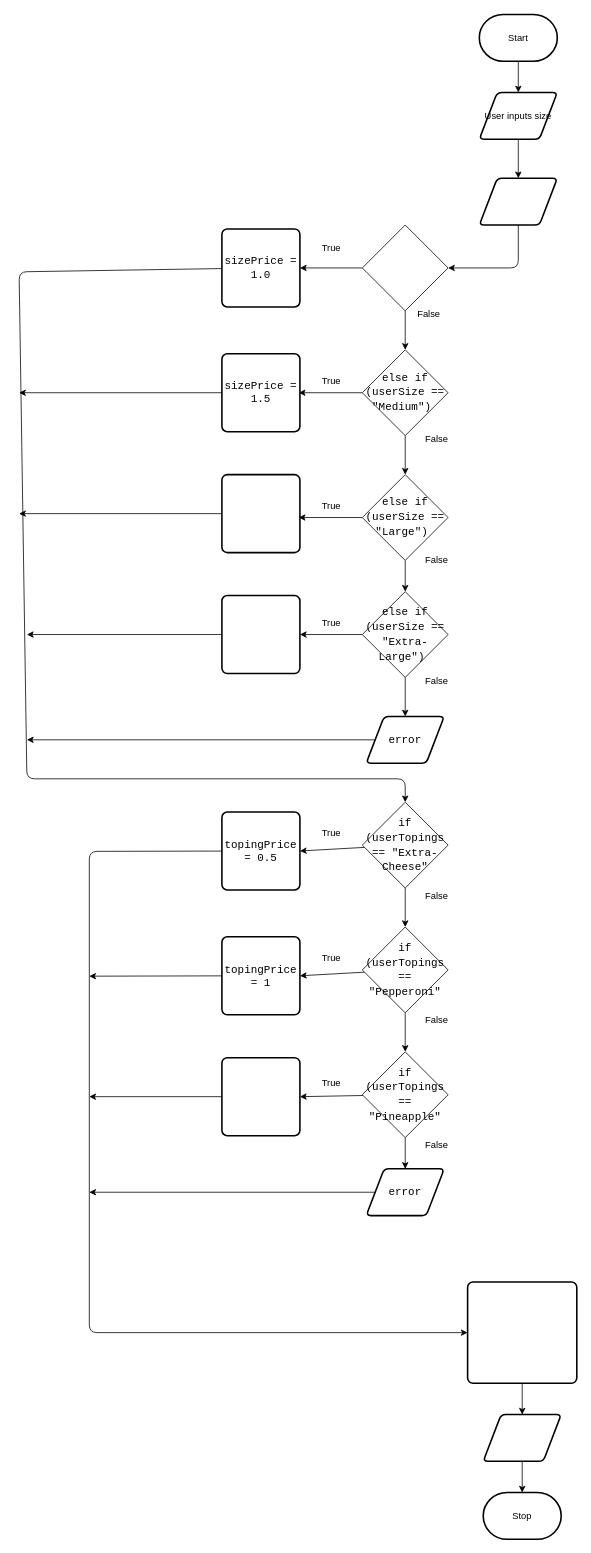
This 591x1553 diagram has some shape labels left out. Each missing label, with the centre of its shape:
"Your total is ____": pixel 522 1437
if (userSize == "Small"): pixel 405 267
sizePrice + topingPrice totalPrice: pixel 521 1332
sizePrice = 2.0: pixel 260 513
sizePrice = 2.5: pixel 260 634
topingPrice = 1.5: pixel 260 1096
User inputs toppings: pixel 518 201
